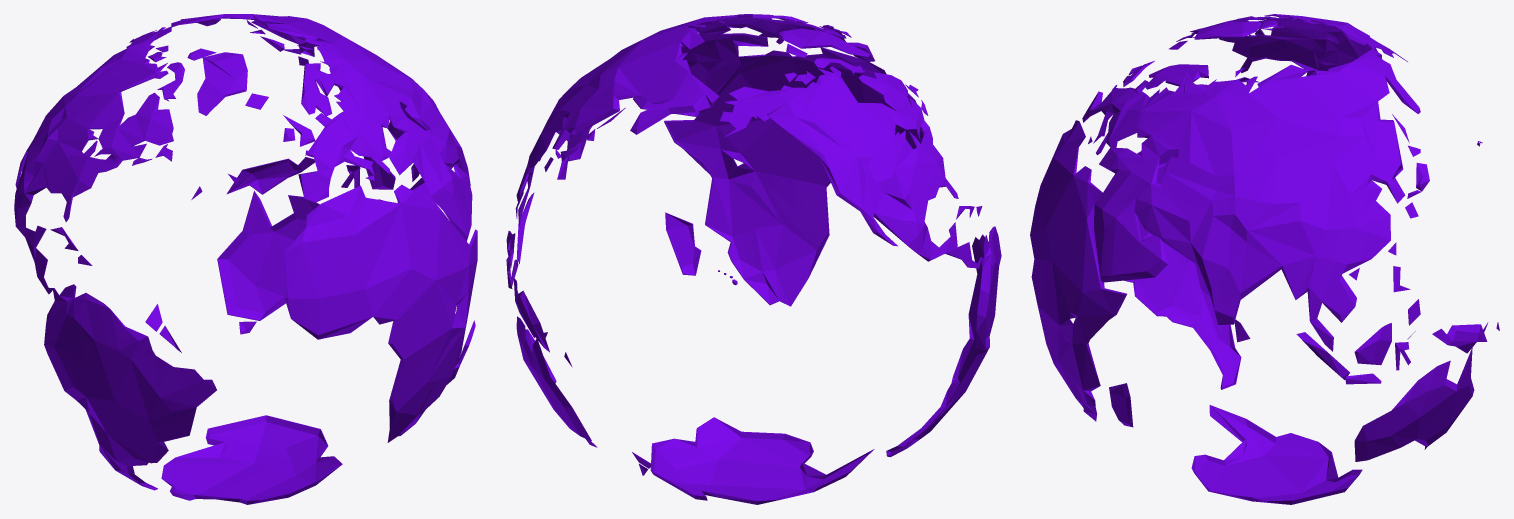
File: land.glb
3 views of the same model, side by side, from view 1: azimuth 30°, elevation 25°; view 2: azimuth 150°, elevation 25°; view 3: azimuth 270°, elevation 25° (orthographic).
Visible parts, largest first — view 1: earth_converted; view 2: earth_converted; view 3: earth_converted.
Part boxes in pixels (x1,y1,x2,y2): earth_converted: (14,14,477,504); earth_converted: (506,14,1001,504); earth_converted: (1030,14,1499,504).
Bounding box in the file's own units: 5.21 × 5.19 × 5.04.
